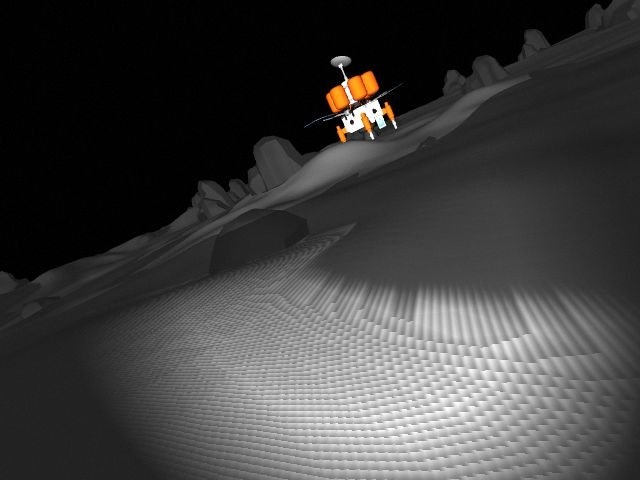homebase: (299, 54, 411, 143)
